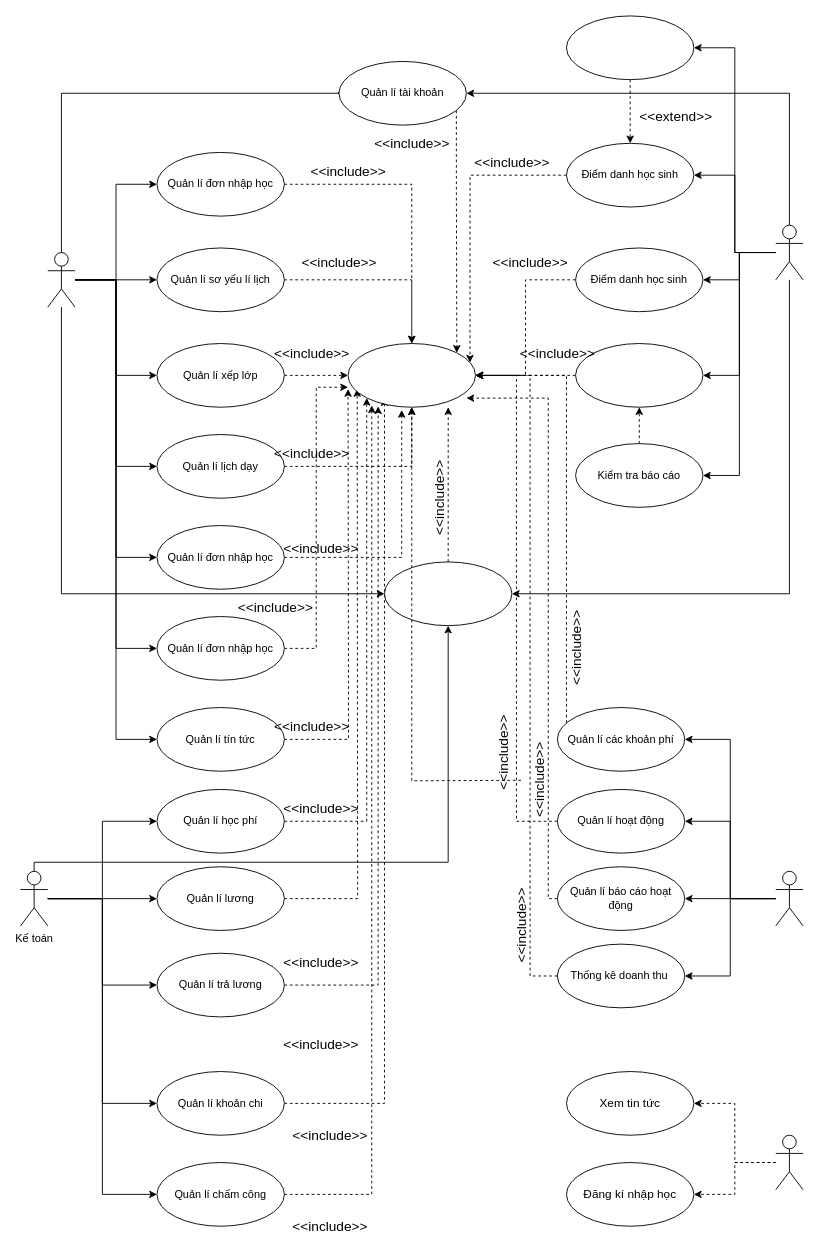
The diagram is 834 pixels wide and 1251 high, and some of its shapes have lost their labels. Each missing label, with the centre of its shape:
Báo cáo hoạt động: point (639, 375)
Cán bộ văn phòng: point (61, 279)
Giáo viên: point (789, 252)
HIệu trưởng: point (789, 898)
Phụ huynh: point (789, 1162)
Xem thông tin hoc sinh: point (630, 47)
Điểm danh: point (448, 593)
Đăng nhập: point (411, 375)
